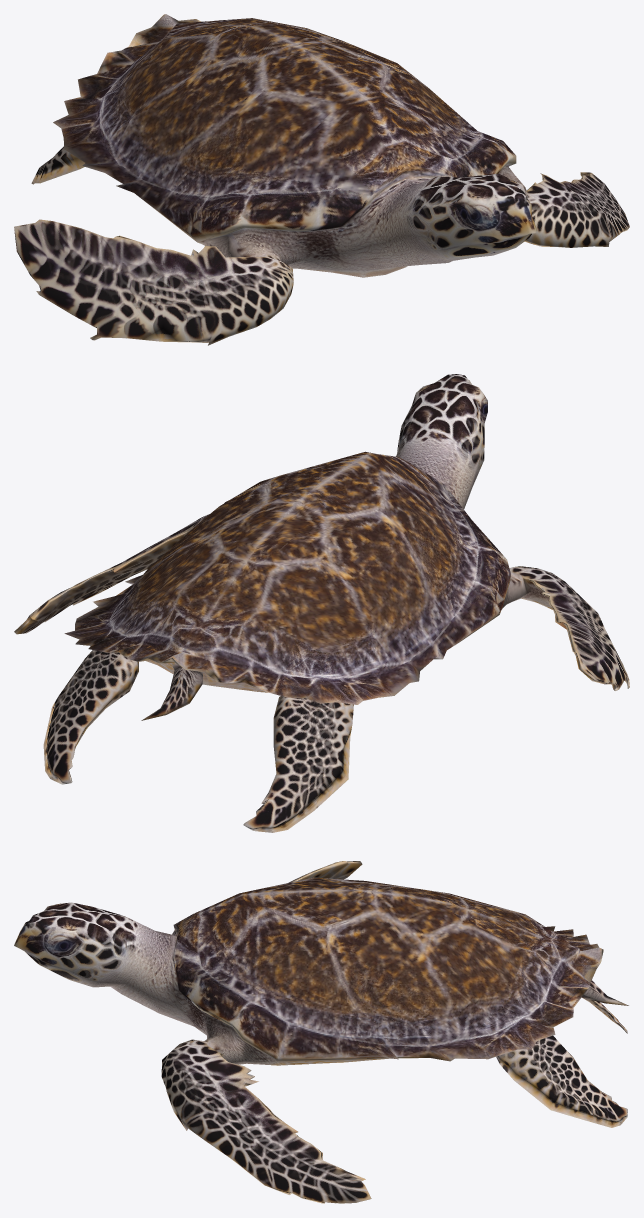
Rendered from tartaruga_de_pente_med.glb.
3 renders of one model, top to bottom at view 1: azimuth 30°, elevation 25°; view 2: azimuth 150°, elevation 25°; view 3: azimuth 270°, elevation 25°, orthographic. The views are drawn at different scales.
Size of the model in its own units: 0.9243 by 0.3252 by 0.9561.
1 material, 1 textured.
